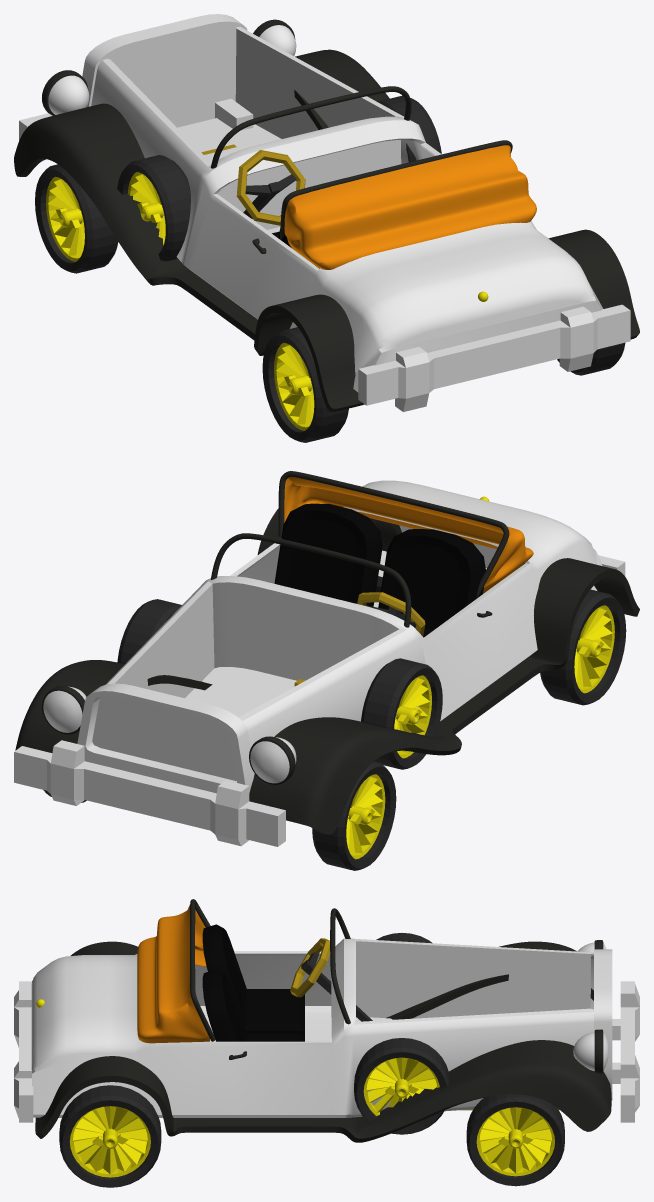
Rendered from колесо 27.fbx.
3 renders of one model, top to bottom at view 1: azimuth 30°, elevation 25°; view 2: azimuth 150°, elevation 25°; view 3: azimuth 270°, elevation 25°, orthographic. The views are drawn at different scales.
Visible parts, largest first — view 1: Plane.008, Plane.009, Plane.014, Cube.050, Plane.010, КОЛЕСО 6.003, КОЛЕСО 6.002, КОЛЕСО 6.001, Sphere.007, Cube.048, Plane.013, Plane.015; view 2: Plane.008, Plane.009, Cube.048, Cube.050, КОЛЕСО 6.001, Plane.010, Plane.014, КОЛЕСО 6.003, КОЛЕСО 6.002, Sphere.007, Plane.015, Plane.013; view 3: Plane.008, Plane.009, Cube.048, КОЛЕСО 6.003, КОЛЕСО 6.002, Plane.014, КОЛЕСО 6.001, Cube.050, Plane.010, Sphere.007, Plane.015, Plane.013.
Boxes of the visible parts, x1,y1,x2,y2 form: Plane.008: [91, 27, 603, 391]; Plane.009: [14, 49, 639, 411]; Plane.014: [284, 145, 536, 269]; Cube.050: [19, 98, 630, 411]; Plane.010: [82, 14, 247, 127]; КОЛЕСО 6.003: [262, 327, 625, 442]; КОЛЕСО 6.002: [35, 164, 118, 273]; КОЛЕСО 6.001: [117, 95, 441, 261]; Sphere.007: [42, 19, 296, 115]; Cube.048: [201, 144, 319, 268]; Plane.013: [210, 86, 411, 168]; Plane.015: [280, 140, 512, 239]; Plane.008: [92, 480, 602, 780]; Plane.009: [15, 508, 639, 834]; Cube.048: [274, 503, 485, 686]; Cube.050: [14, 555, 625, 846]; КОЛЕСО 6.001: [117, 599, 442, 769]; Plane.010: [77, 683, 254, 793]; Plane.014: [284, 477, 533, 593]; КОЛЕСО 6.003: [540, 589, 626, 705]; КОЛЕСО 6.002: [43, 761, 396, 870]; Sphere.007: [42, 686, 296, 784]; Plane.015: [278, 471, 509, 597]; Plane.013: [211, 533, 411, 627]; Plane.008: [31, 938, 593, 1117]; Plane.009: [35, 941, 611, 1142]; Cube.048: [202, 924, 559, 1110]; КОЛЕСО 6.003: [59, 1085, 161, 1187]; КОЛЕСО 6.002: [466, 1094, 564, 1186]; Plane.014: [137, 904, 209, 1043]; КОЛЕСО 6.001: [354, 933, 449, 1134]; Cube.050: [14, 981, 639, 1122]; Plane.010: [594, 949, 612, 1099]; Sphere.007: [573, 940, 608, 1073]; Plane.015: [190, 899, 215, 1041]; Plane.013: [330, 908, 350, 1024].
Bounding box in the file's own units: 241 × 151 × 465.
